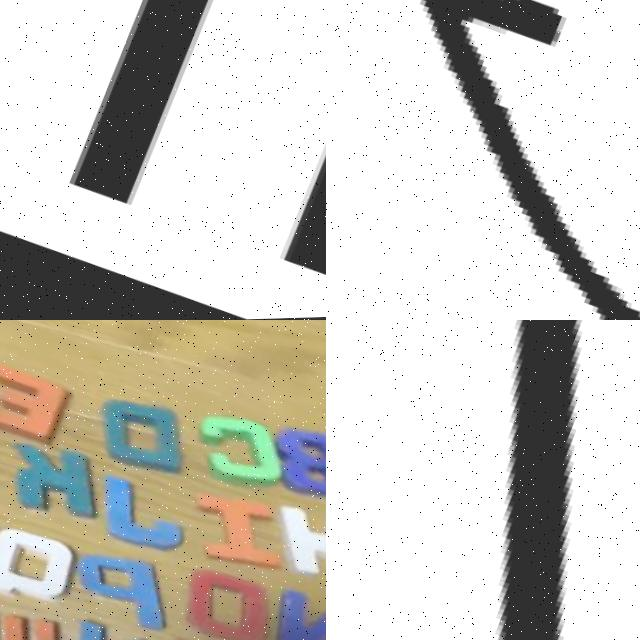7: (326, 0, 640, 320)
B: (261, 420, 326, 510)
C: (180, 408, 294, 502)
D: (84, 391, 189, 480)
E: (0, 361, 82, 456)
H: (62, 0, 326, 300), (264, 495, 326, 597)
I: (349, 320, 640, 640), (175, 482, 289, 581)
J: (88, 466, 202, 563)
K: (0, 430, 106, 533)
N: (261, 581, 326, 640)
O: (177, 562, 279, 640)
P: (68, 545, 178, 640)
Q: (0, 523, 80, 616)
V: (56, 613, 160, 640)
W: (0, 592, 79, 640)
